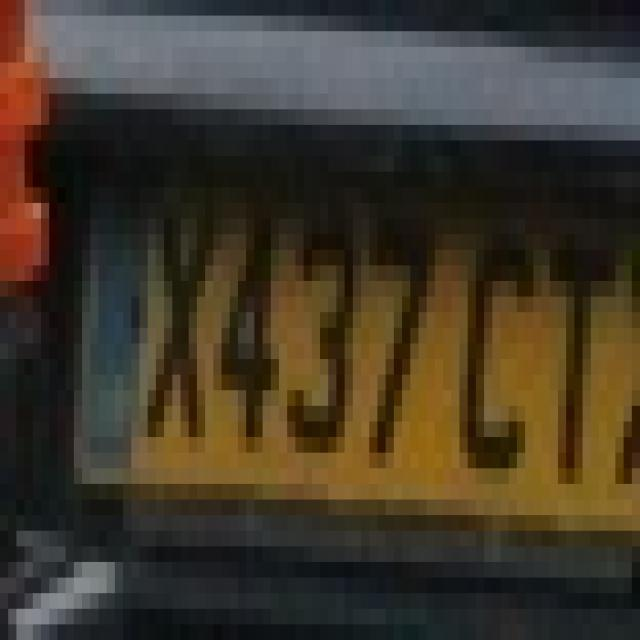licenseplate: (63, 67, 634, 564)
